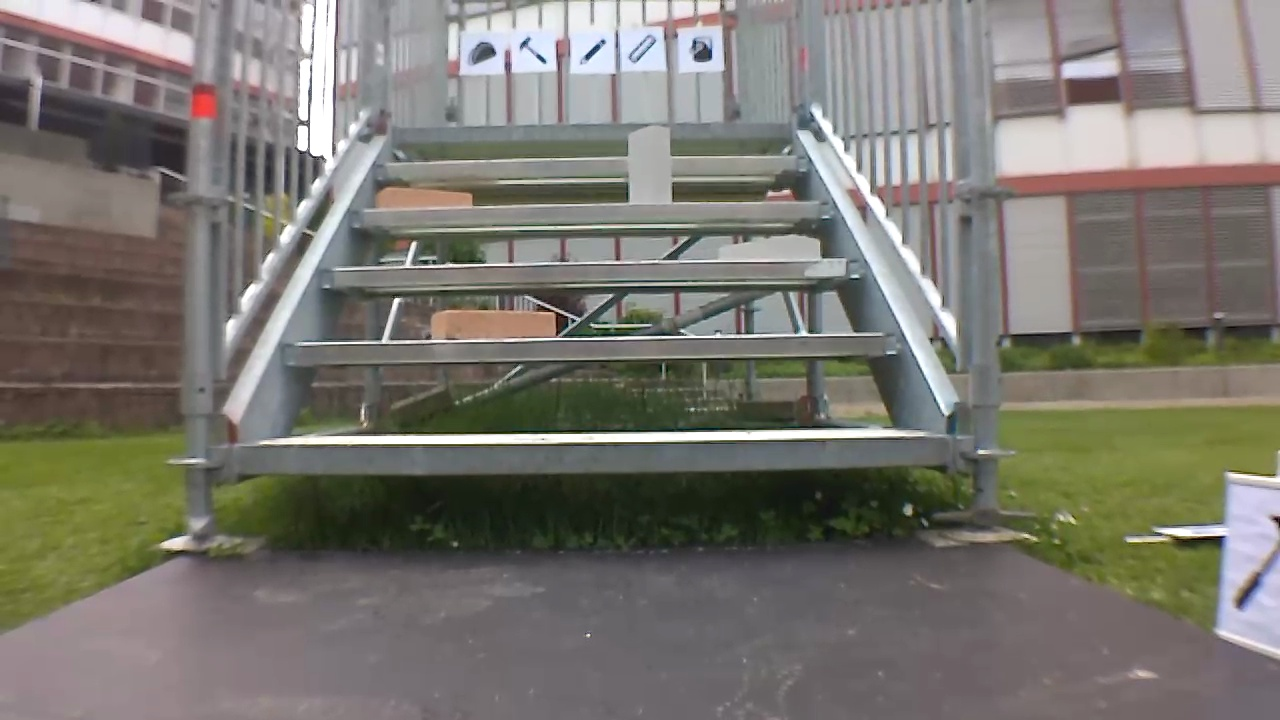brick: (628, 126, 671, 203), (432, 311, 553, 338), (720, 235, 818, 259), (377, 188, 472, 208)
bucket: (684, 33, 715, 65)
edge: (235, 437, 946, 473), (281, 334, 900, 362), (321, 258, 862, 283), (351, 201, 833, 224), (374, 156, 808, 179), (394, 124, 788, 140)
hammer: (513, 31, 554, 70)
pencil: (574, 34, 609, 70)
ruler: (624, 30, 662, 68)
stairs: (165, 3, 1013, 548)
steps: (226, 118, 953, 480)
taco: (461, 34, 499, 70)
